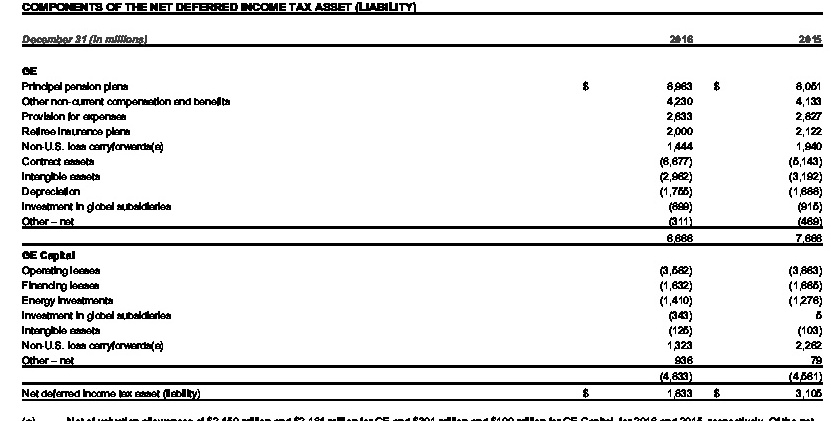table: (0, 0, 840, 421)
